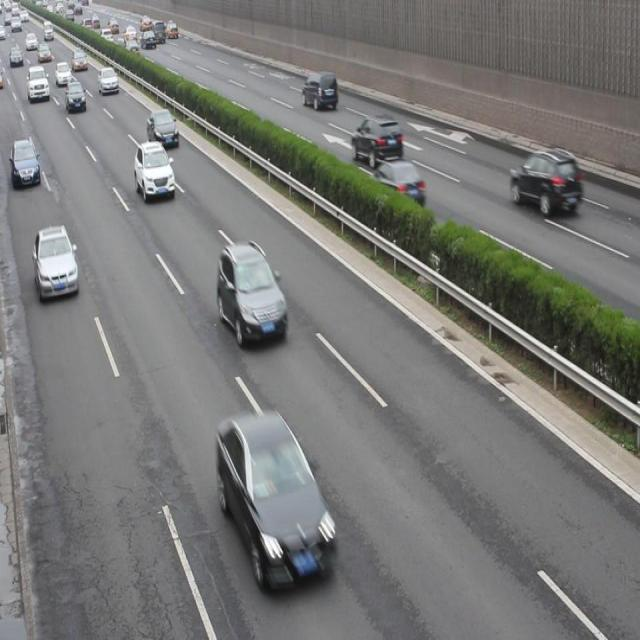car: (215, 411, 332, 588), (216, 242, 287, 345), (508, 145, 581, 216), (34, 225, 80, 300), (368, 158, 425, 215), (349, 114, 404, 166), (134, 141, 175, 202), (301, 68, 338, 112), (10, 136, 40, 190), (146, 107, 178, 148)
